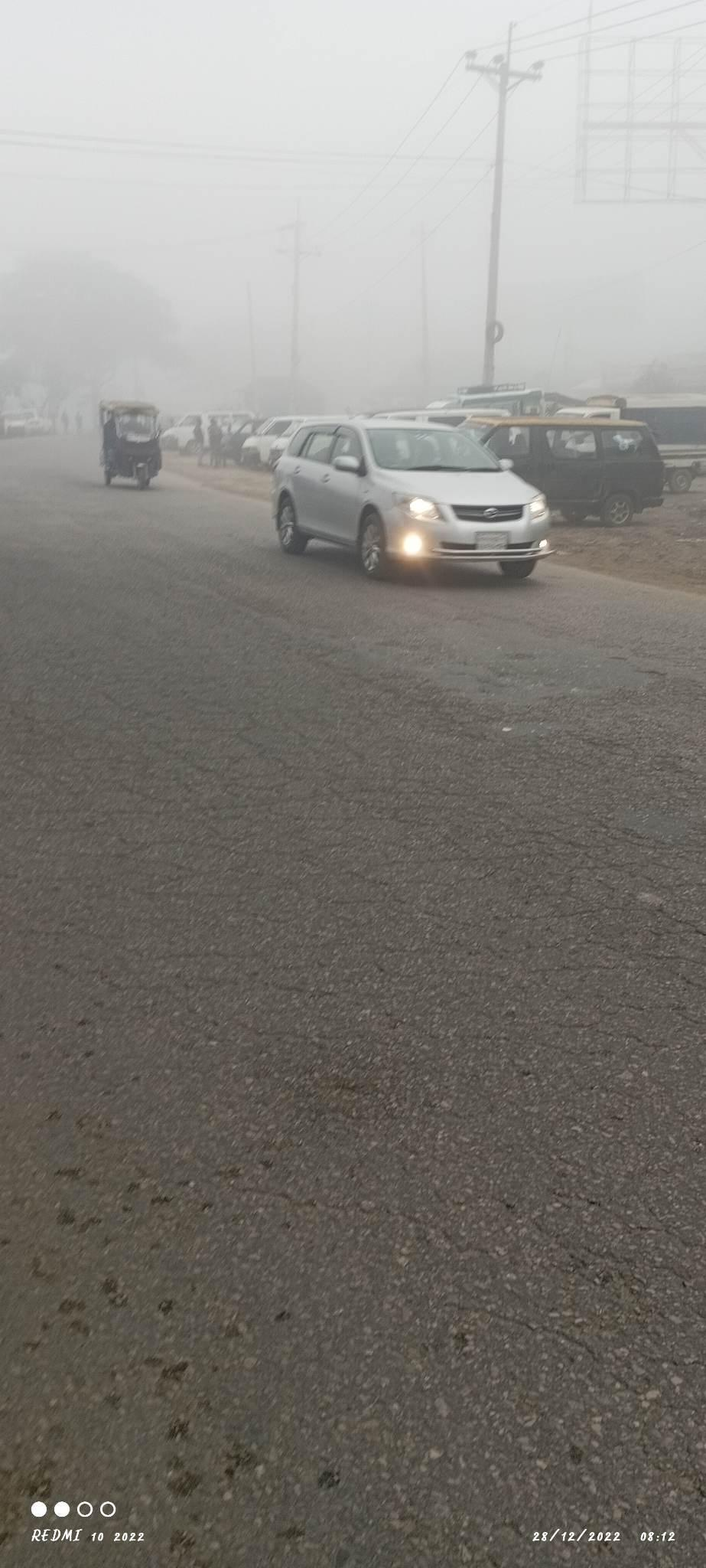Car: (253, 406, 559, 622), (462, 400, 678, 549), (93, 391, 177, 498)
